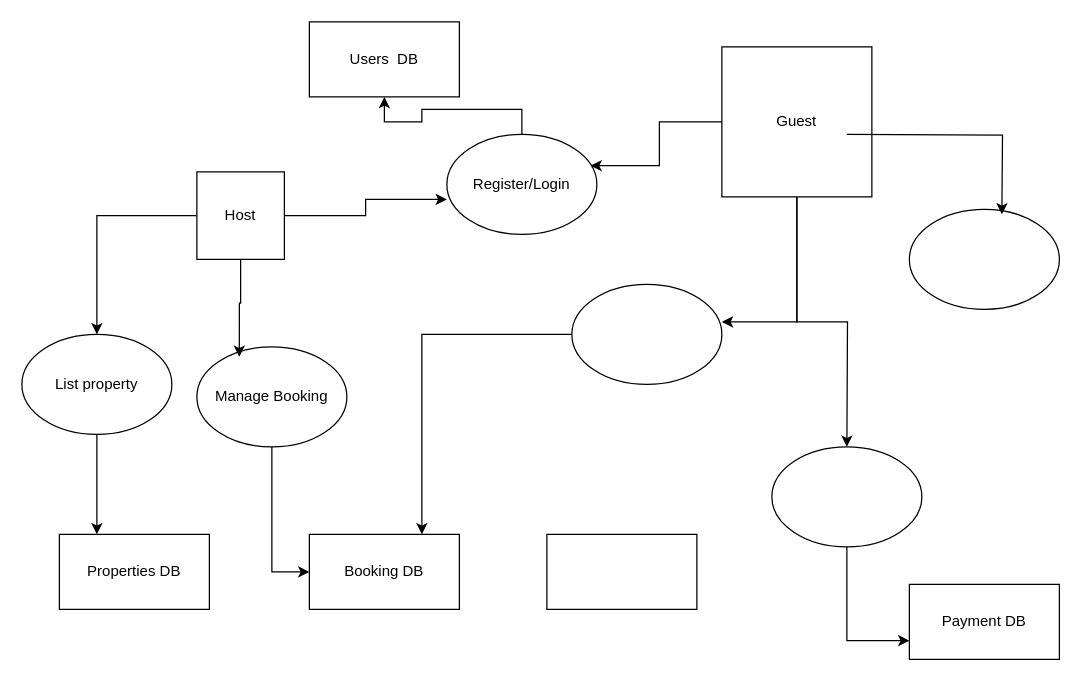
Image size: 1081x681. Some labels were removed from this diagram. Each missing label, with the centre of its shape:
Book Property: the point at 646,333
Make Payment: the point at 846,496
Reviews DB: the point at 621,571
Search properties: the point at 983,258
